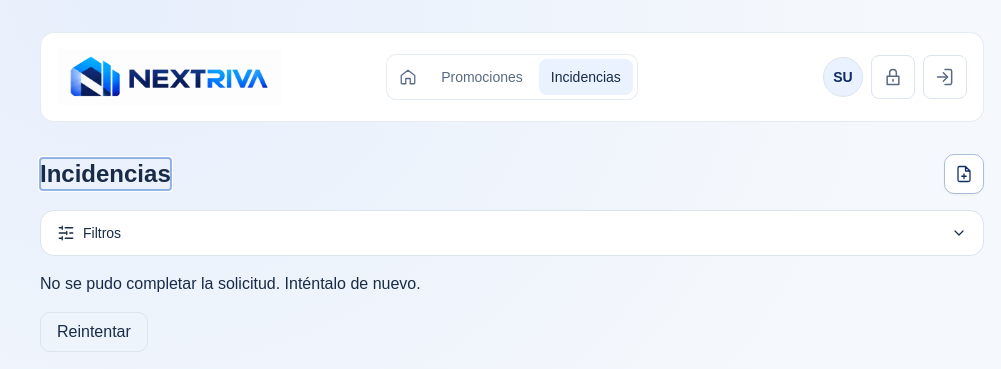
Test: shows a safe error and retries the list without exposing infrastructure details
The width and height of the screenshot is (1001, 369).
Expected: the message reads "No se pudo completar la solicitud. Inténtalo de nuevo.", [40,275,421,292]
Click the button "Reintentar". click: (94, 332)
box: [40,312,148,352]
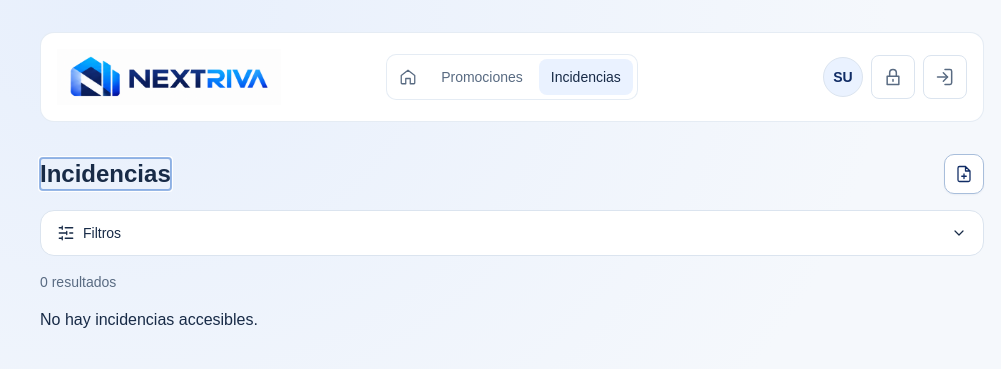
Result: the text "No hay incidencias accesibles." is shown at [40,311,258,328]
